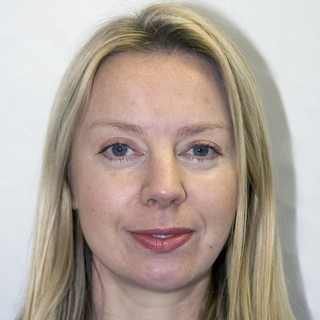eye: (94, 136, 147, 166), (175, 140, 224, 169)
